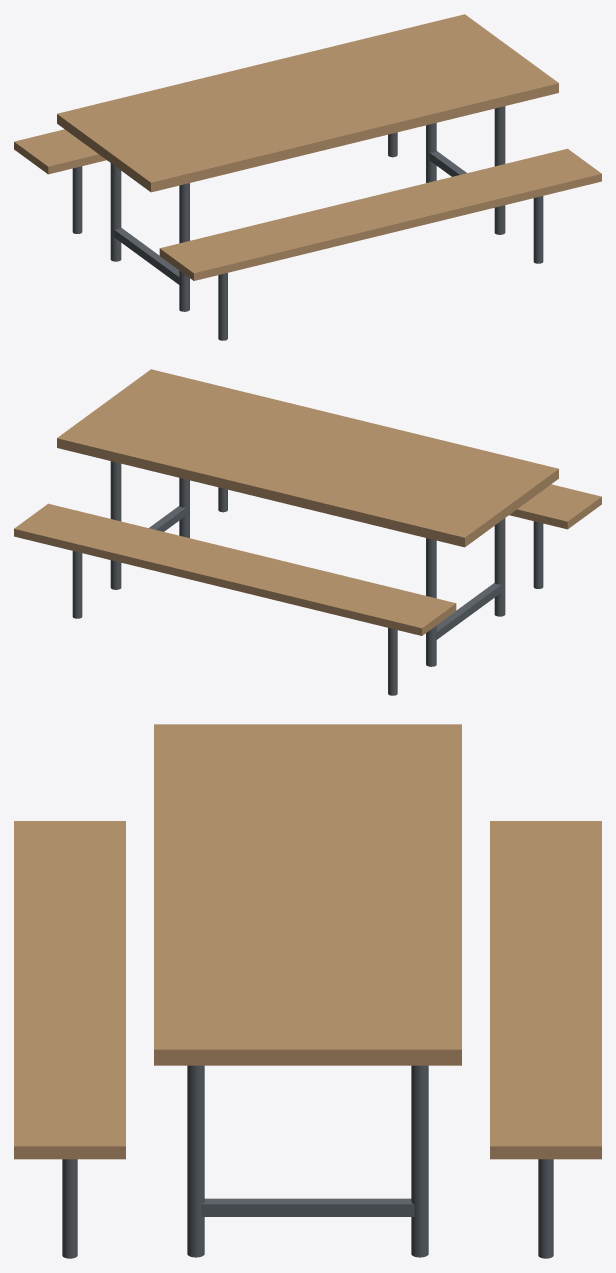
File: canteen_dining_table_set.glb
The picture shows the model from 3 angles, top to bottom: view 1: azimuth 30°, elevation 25°; view 2: azimuth 150°, elevation 25°; view 3: azimuth 270°, elevation 25°; orthographic projection. The views are drawn at different scales.
Visible parts, largest first — view 1: Cube, Cube.003, Cube.004, Cylinder, Cylinder.001, Cylinder.002, Cube.001, Cylinder.005, Cylinder.006, Cylinder.004, Cylinder.003, Cube.002; view 2: Cube, Cube.004, Cube.003, Cylinder.001, Cylinder, Cylinder.003, Cube.001, Cylinder.007, Cylinder.004, Cylinder.006, Cylinder.002, Cube.002; view 3: Cube, Cube.003, Cube.004, Cube.002, Cylinder.002, Cylinder.003, Cylinder.005, Cylinder.007.
Part boxes in pixels (bbox=[...]): Cube: bbox=[57, 14, 558, 192]; Cube.003: bbox=[159, 148, 601, 280]; Cube.004: bbox=[14, 129, 106, 174]; Cylinder: bbox=[179, 183, 189, 311]; Cylinder.001: bbox=[110, 163, 121, 261]; Cylinder.002: bbox=[494, 106, 505, 234]; Cube.001: bbox=[114, 228, 179, 284]; Cylinder.005: bbox=[533, 196, 543, 263]; Cylinder.006: bbox=[72, 166, 82, 233]; Cylinder.004: bbox=[218, 273, 227, 340]; Cylinder.003: bbox=[426, 123, 436, 182]; Cube.002: bbox=[429, 151, 466, 176]; Cube: bbox=[57, 369, 558, 547]; Cube.004: bbox=[14, 503, 456, 635]; Cube.003: bbox=[509, 484, 601, 529]; Cylinder.001: bbox=[426, 538, 436, 666]; Cylinder: bbox=[494, 518, 505, 616]; Cylinder.003: bbox=[110, 461, 121, 589]; Cube.001: bbox=[436, 583, 501, 639]; Cylinder.007: bbox=[72, 551, 82, 618]; Cylinder.004: bbox=[533, 521, 543, 588]; Cylinder.006: bbox=[388, 628, 397, 695]; Cylinder.002: bbox=[179, 478, 189, 537]; Cube.002: bbox=[149, 506, 186, 531]; Cube: bbox=[154, 724, 461, 1065]; Cube.003: bbox=[14, 821, 125, 1159]; Cube.004: bbox=[490, 821, 601, 1159]; Cube.002: bbox=[201, 1198, 414, 1216]; Cylinder.002: bbox=[187, 1065, 204, 1257]; Cylinder.003: bbox=[411, 1065, 428, 1257]; Cylinder.005: bbox=[62, 1159, 77, 1258]; Cylinder.007: bbox=[538, 1159, 553, 1258].
Size of the model in its own units: 2.2 by 0.765 by 1.68.
